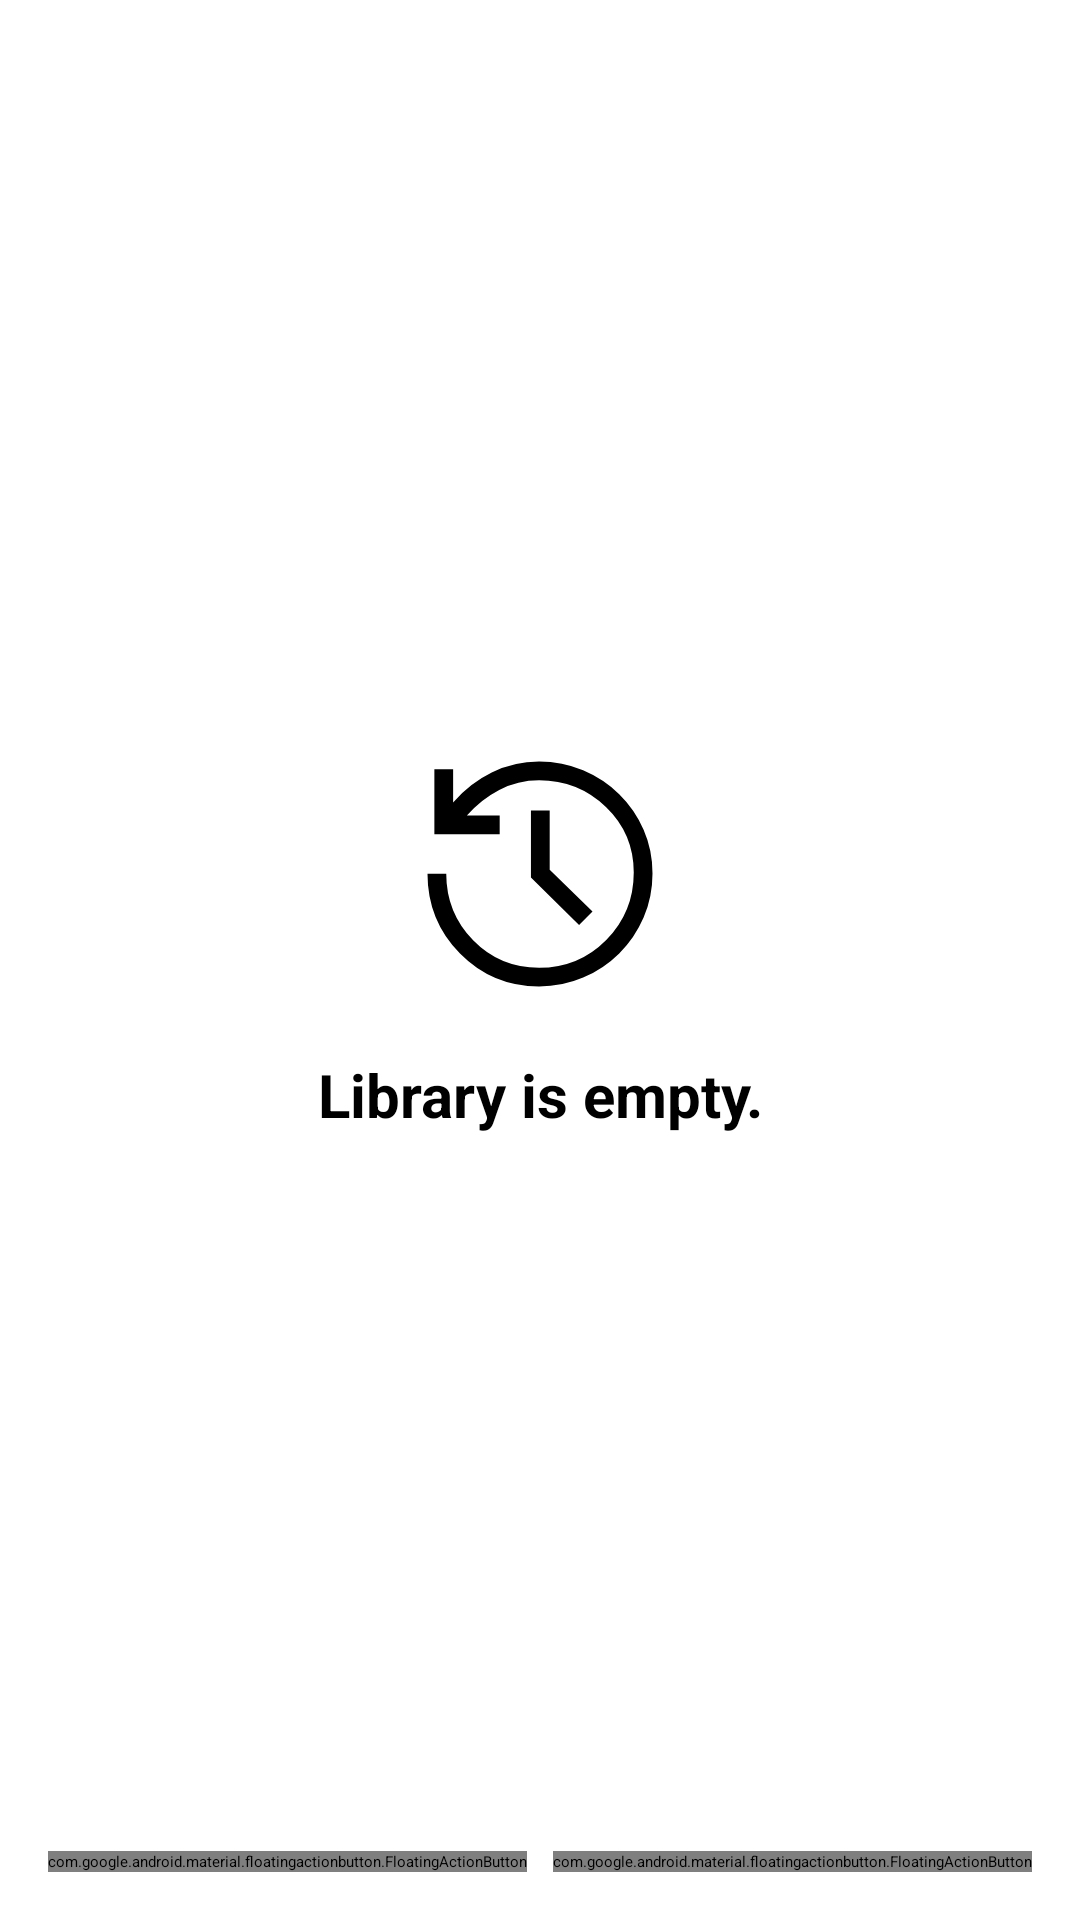

Icon bounding boxes for this 1080w x 1920h phone screenshot, format detection(x1, y1, x2, y2):
history: detection(427, 761, 653, 987)
